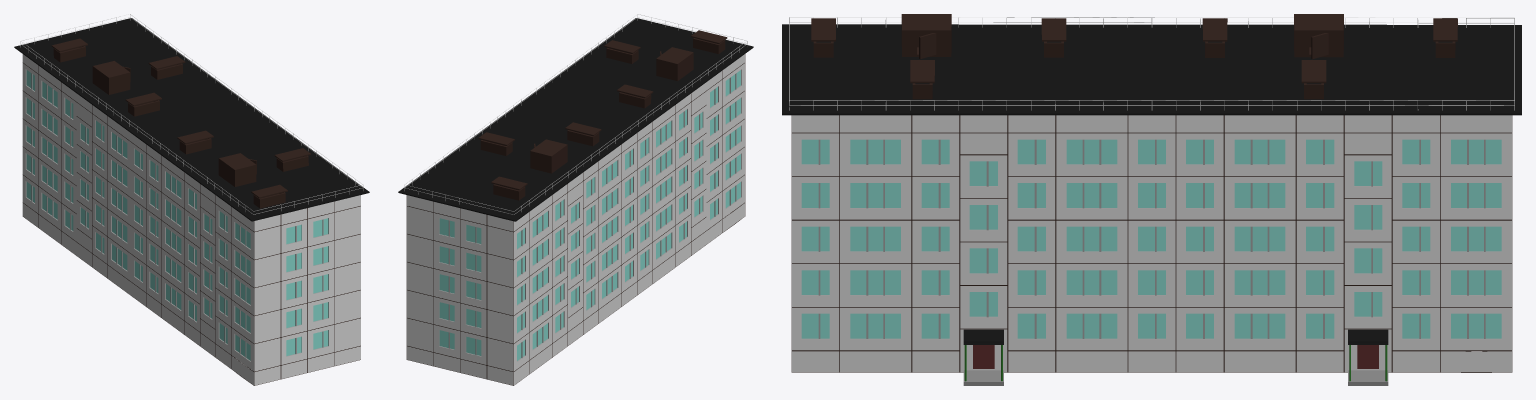
3 views of the same model, side by side, from view 1: azimuth 30°, elevation 25°; view 2: azimuth 150°, elevation 25°; view 3: azimuth 270°, elevation 25° (orthographic). The views are drawn at different scales.
Parts seen in each view (by area): view 1: Plane.009, Plane.001, Plane.010, Plane.007, Plane.006, Plane.008, Plane.002; view 2: Plane.009, Plane.001, Plane.010, Plane.007, Plane.006, Plane.008, Plane.002; view 3: Plane.009, Plane.001, Plane.010, Plane.008, Plane.006, Plane.007, Plane.002, Plane.012, Plane.011, Plane.013.
Boxes of the visible parts, <box> form: Plane.009: <box>22,54,360,385</box>; Plane.001: <box>14,18,369,221</box>; Plane.010: <box>26,70,328,360</box>; Plane.007: <box>25,69,328,361</box>; Plane.006: <box>51,38,310,208</box>; Plane.008: <box>22,62,360,385</box>; Plane.002: <box>20,14,363,214</box>; Plane.009: <box>407,54,744,385</box>; Plane.001: <box>398,18,753,221</box>; Plane.010: <box>439,70,740,360</box>; Plane.007: <box>439,69,741,361</box>; Plane.006: <box>478,30,727,200</box>; Plane.008: <box>406,54,745,385</box>; Plane.002: <box>404,14,747,214</box>; Plane.009: <box>792,115,1511,372</box>; Plane.001: <box>782,24,1521,115</box>; Plane.010: <box>801,139,1501,338</box>; Plane.008: <box>791,115,1512,372</box>; Plane.006: <box>811,14,1457,99</box>; Plane.007: <box>801,139,1501,369</box>; Plane.002: <box>789,17,1514,110</box>; Plane.012: <box>963,329,1388,344</box>; Plane.011: <box>963,370,1388,385</box>; Plane.013: <box>973,345,1378,368</box>.
Bounding box in the file's own units: 1001 × 1338 × 3080.
